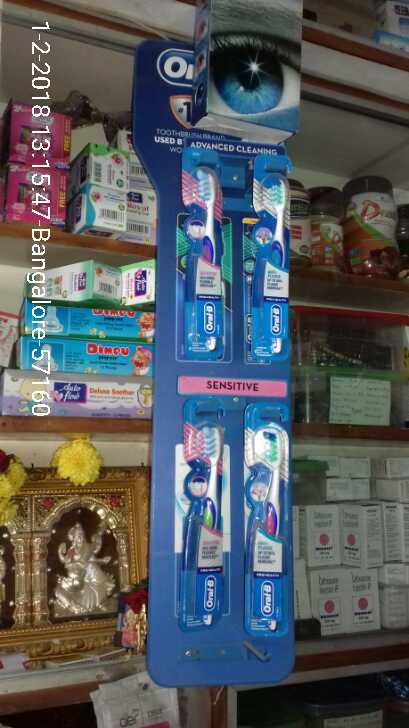oralb: (242, 403, 289, 636), (179, 396, 226, 628), (181, 145, 223, 358), (250, 151, 291, 361)
